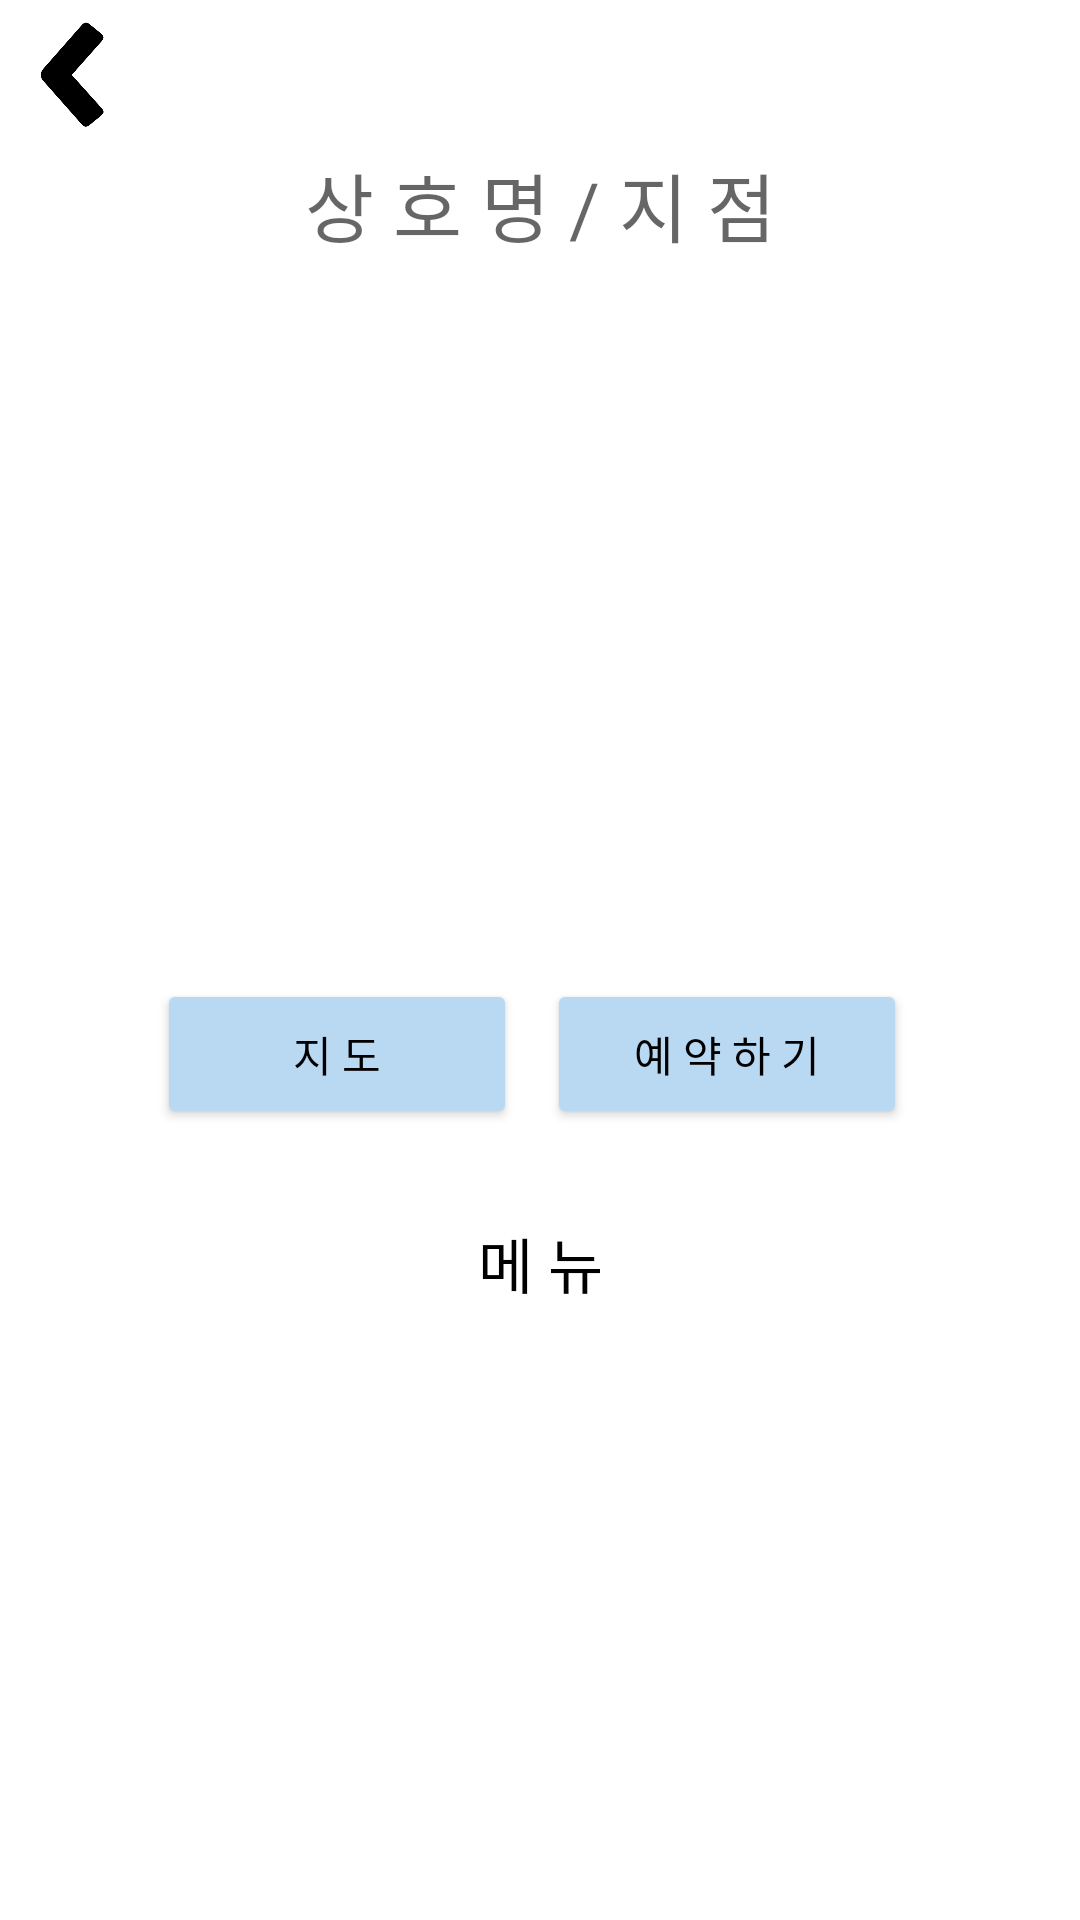

Icon click points for this 1080px x 1920px phone screenshot, format (x=x, y=y):
backbutton: (x=72, y=74)
